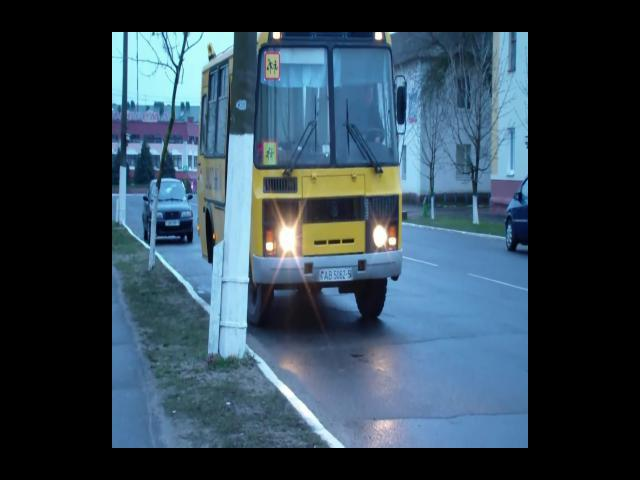bus: (198, 32, 405, 351)
car: (140, 175, 195, 247), (501, 176, 528, 251)
